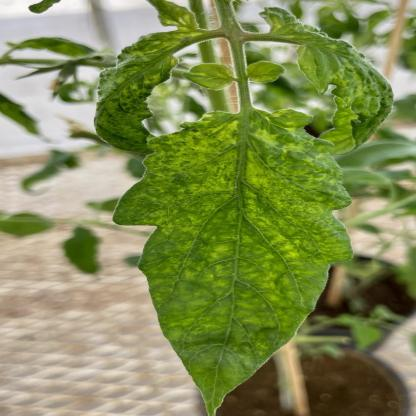T_L_R: (115, 108, 353, 415), (249, 9, 394, 155), (96, 31, 202, 154), (149, 1, 200, 31), (185, 64, 238, 91), (247, 62, 285, 84)
T_S_R: (215, 1, 262, 112)
